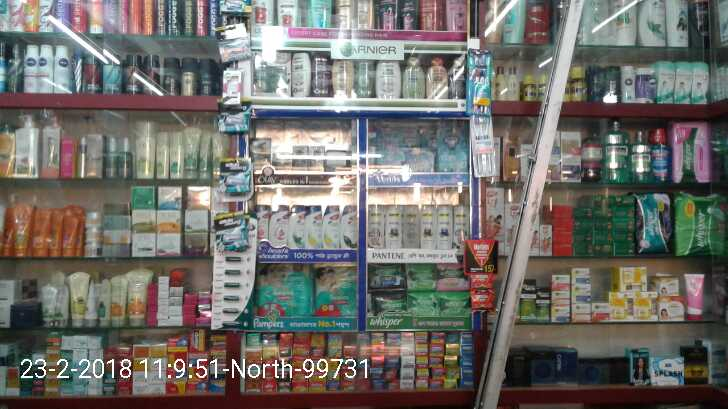gillete: (218, 158, 254, 194), (216, 211, 249, 250), (217, 101, 248, 133)
venus: (436, 121, 470, 172), (399, 144, 436, 172), (381, 124, 431, 138)
